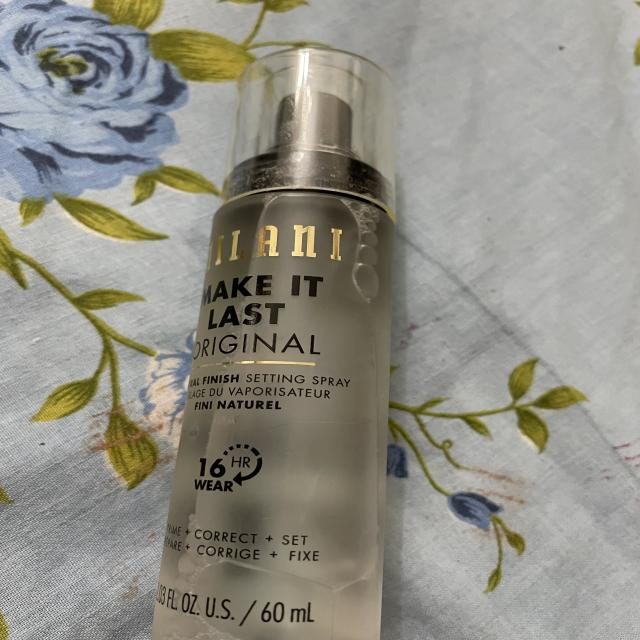setting spray: (126, 24, 424, 640)
